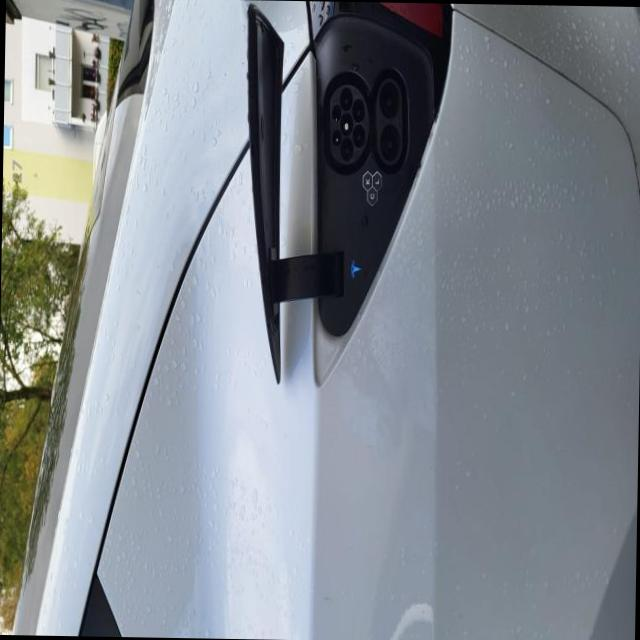inlet: (330, 83, 368, 162)
inlet-above-left: (332, 129, 341, 145)
inlet-above-right: (332, 103, 341, 120)
inlet-below-left: (352, 123, 365, 146)
inlet-below-right: (352, 98, 365, 121)
inlet-center: (340, 111, 353, 134)
inlet-center-left: (340, 137, 353, 160)
inlet-center-right: (339, 87, 353, 109)
